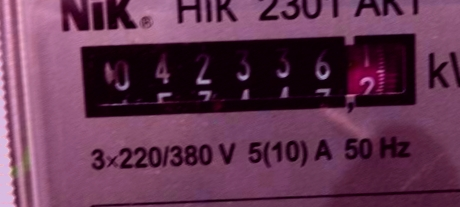0: (110, 55, 131, 90)
1: (358, 39, 372, 68)
2: (191, 48, 212, 85), (356, 73, 375, 94)
3: (232, 43, 252, 82), (270, 42, 291, 79)
4: (151, 47, 171, 84)
6: (309, 44, 332, 80)
screen: (71, 21, 426, 124)
